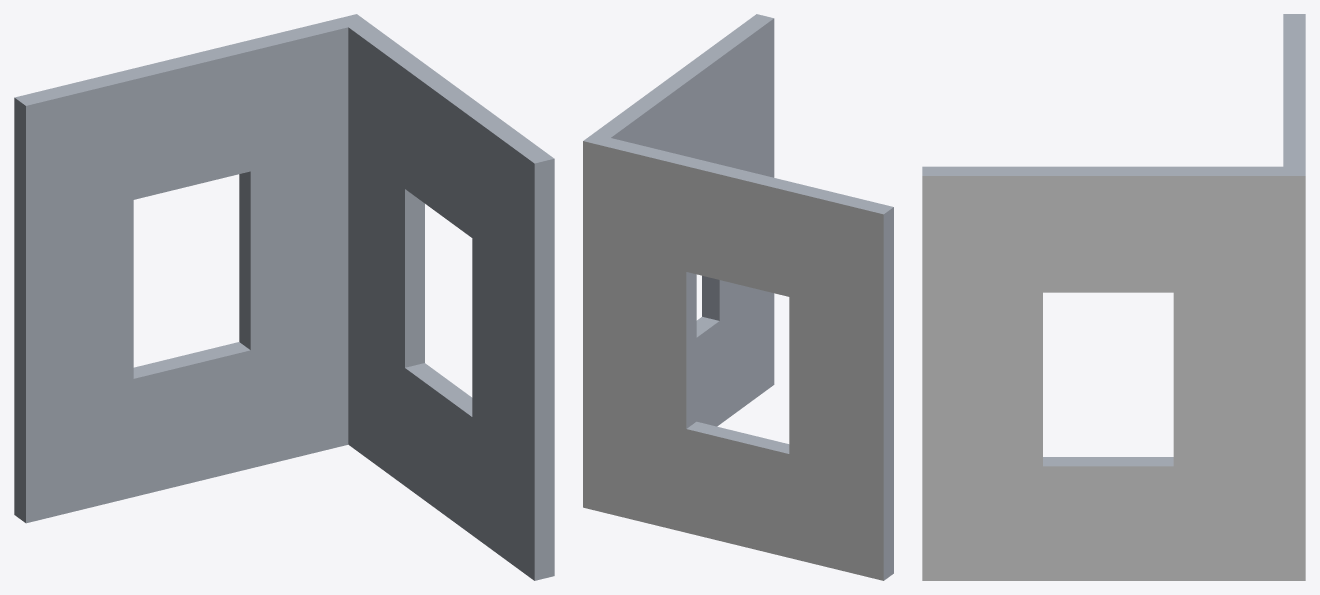
File: Wall1_C5_09.fbx
The picture shows the model from 3 angles, left to right: view 1: azimuth 30°, elevation 25°; view 2: azimuth 150°, elevation 25°; view 3: azimuth 270°, elevation 25°; orthographic projection. The views are drawn at different scales.
Parts seen in each view (by area): view 1: Wall1_C5_09; view 2: Wall1_C5_09; view 3: Wall1_C5_09.
Boxes of the visible parts, box(x1,y1,x2,y2) form: Wall1_C5_09: box(14, 14, 554, 580); Wall1_C5_09: box(583, 14, 893, 580); Wall1_C5_09: box(922, 14, 1305, 580).
Size of the model in its own units: 258 by 300 by 258.
